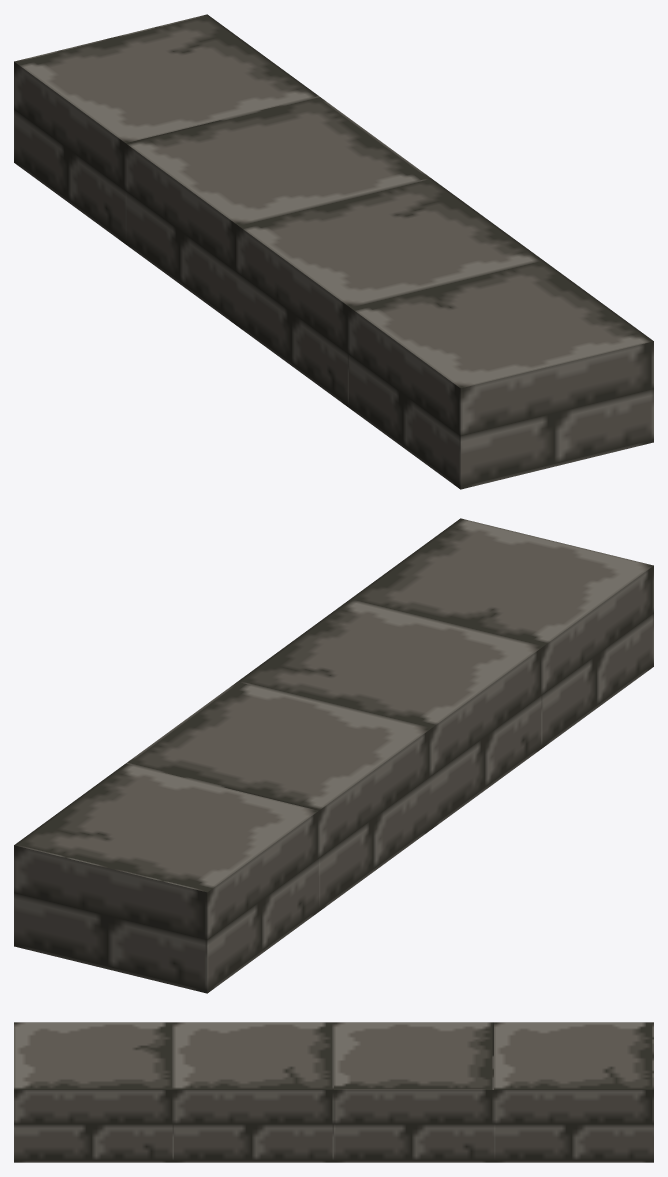
Rendered from Trim_Piece_x4.fbx.
3 renders of one model, top to bottom at view 1: azimuth 30°, elevation 25°; view 2: azimuth 150°, elevation 25°; view 3: azimuth 270°, elevation 25°, orthographic. The views are drawn at different scales.
Visible parts, largest first — view 1: Trim_Piece_x4; view 2: Trim_Piece_x4; view 3: Trim_Piece_x4.
Part boxes in pixels (box(x1,y1,x2,y2)): Trim_Piece_x4: box(14, 14, 653, 489); Trim_Piece_x4: box(14, 518, 653, 993); Trim_Piece_x4: box(14, 1022, 653, 1162).
Size of the model in its own units: 200 by 100 by 800.
1 material, 1 textured.
